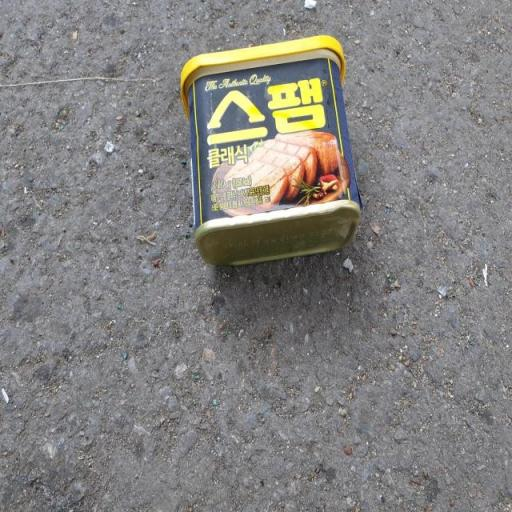metal: (164, 14, 386, 282)
